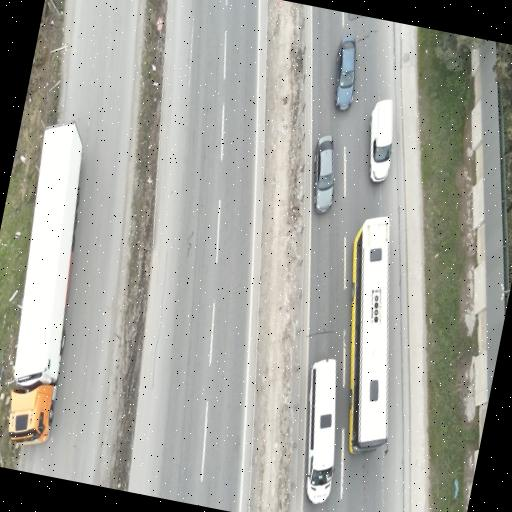bus: (348, 217, 388, 452), (307, 359, 336, 503)
car: (369, 99, 391, 182), (313, 135, 334, 213), (334, 36, 355, 110)
truck: (8, 121, 81, 444)
